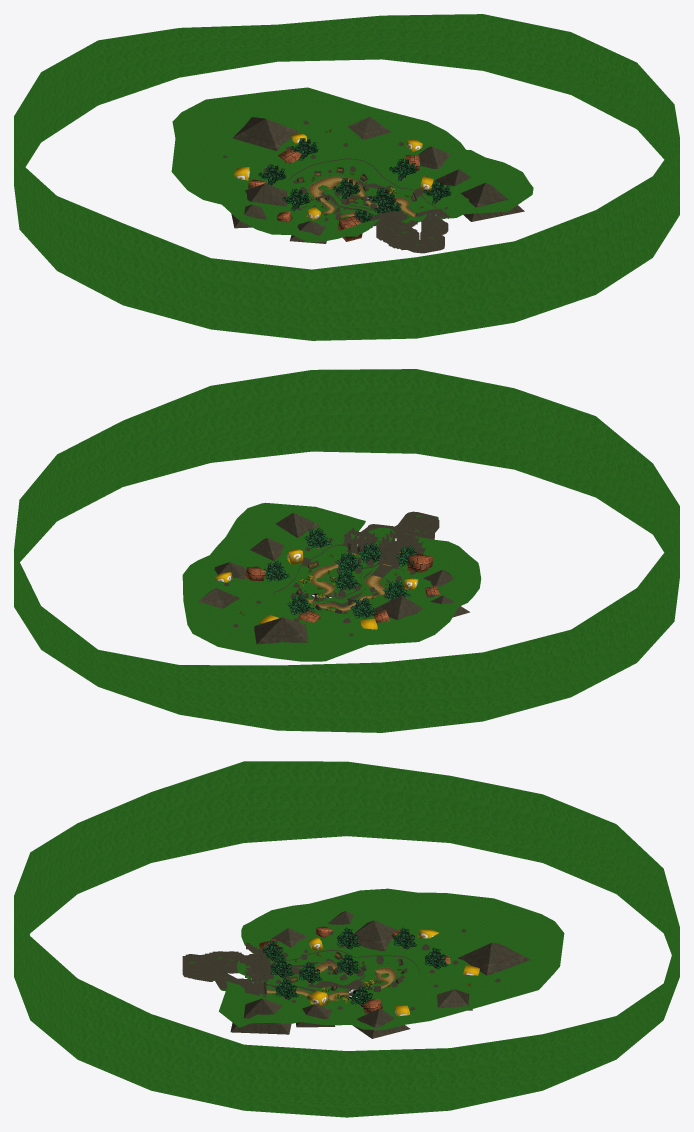
The picture shows the model from 3 angles, top to bottom: view 1: azimuth 30°, elevation 25°; view 2: azimuth 150°, elevation 25°; view 3: azimuth 270°, elevation 25°; orthographic projection.
Visible parts, largest first — view 1: polygon71, polygon89, polygon165, polygon63, BrickBlockMesh, ?BlocksMesh, polygon47, polygon68, polygon105; view 2: polygon71, polygon89, polygon165, polygon105, BrickBlockMesh, polygon63, ?BlocksMesh, polygon68; view 3: polygon71, polygon89, polygon165, polygon105, ?BlocksMesh, polygon47, polygon63, polygon68, BrickBlockMesh.
Part boxes in pixels (x1,y1,x2,y2): polygon71: (14,14,679,340); polygon89: (231,117,524,243); polygon165: (376,213,448,253); polygon63: (308,176,415,216); BrickBlockMesh: (248,148,419,241); ?BlocksMesh: (234,133,433,220); polygon47: (289,158,437,215); polygon68: (223,120,447,221); polygon105: (361,198,450,230); polygon71: (14,369,679,732); polygon89: (198,512,469,644); polygon165: (350,511,439,551); polygon105: (326,527,425,595); BrickBlockMesh: (245,553,439,622); polygon63: (306,552,385,611); ?BlocksMesh: (215,549,418,629); polygon68: (224,538,434,636); polygon71: (14,761,679,1117); polygon89: (217,911,530,1038); polygon165: (182,951,266,990); polygon105: (245,943,351,995); ?BlocksMesh: (308,928,479,1016); polygon47: (266,950,419,996); polygon63: (267,961,396,1000); polygon68: (262,929,500,1010); BrickBlockMesh: (259,926,450,1013).
Bounding box in the file's own units: 300000 × 47559 × 300000.
25 materials, 25 textured.
